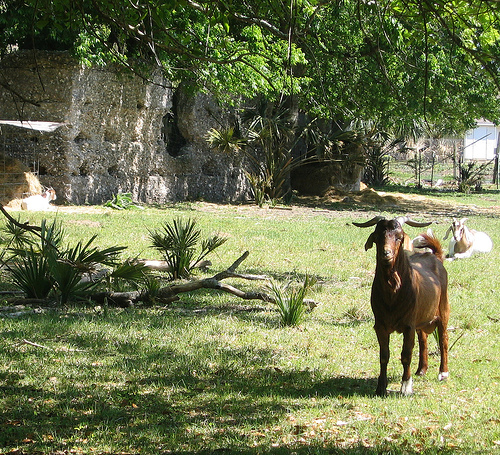goat: (351, 213, 452, 398), (444, 217, 493, 261)
